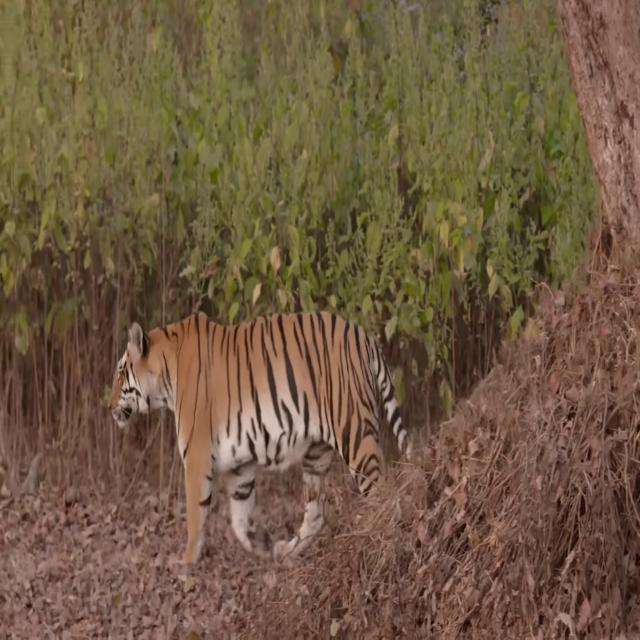tiger: (107, 310, 413, 564)
